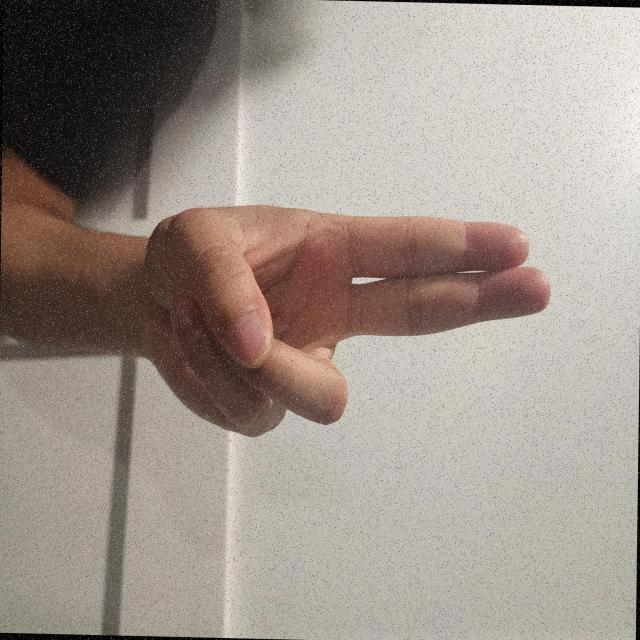U: (301, 111, 496, 640)
